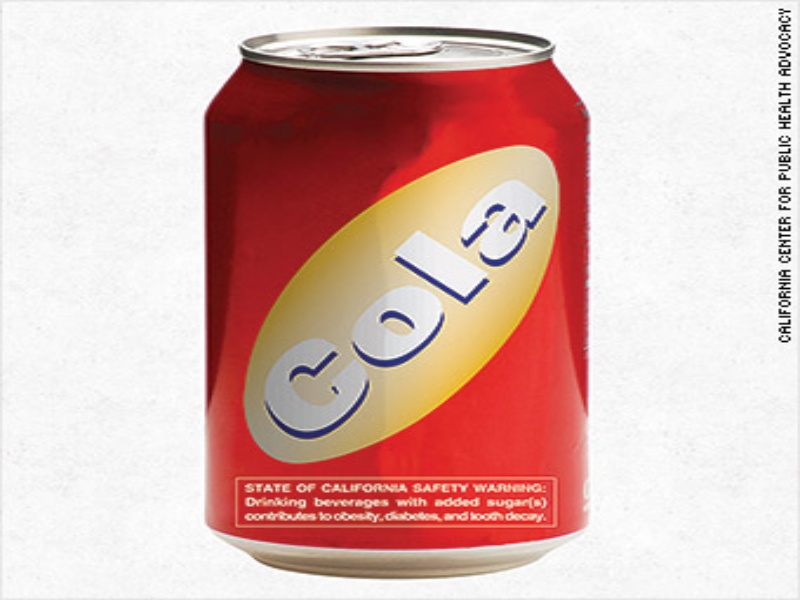Can: (167, 18, 605, 592)
